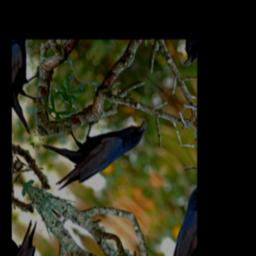Crow: (28, 71, 151, 218)
